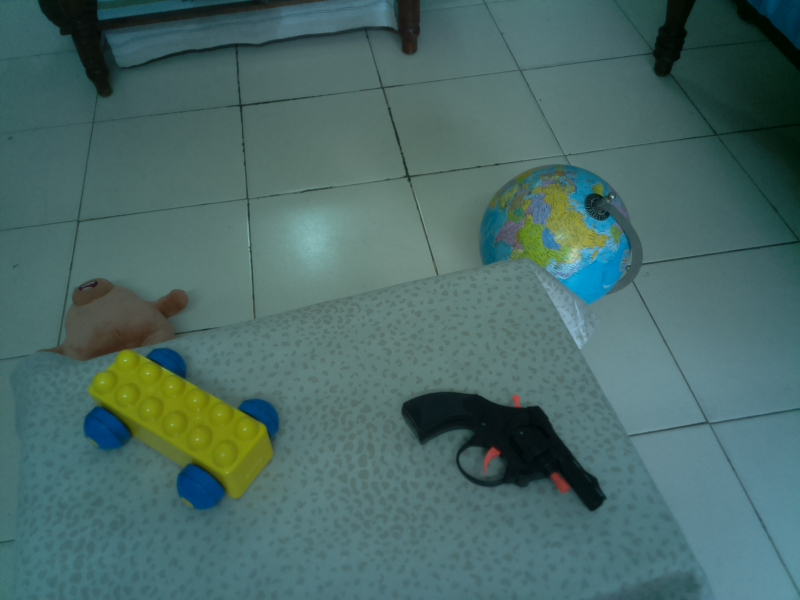Gun: (396, 383, 611, 519)
toy_Car: (76, 342, 287, 513)
